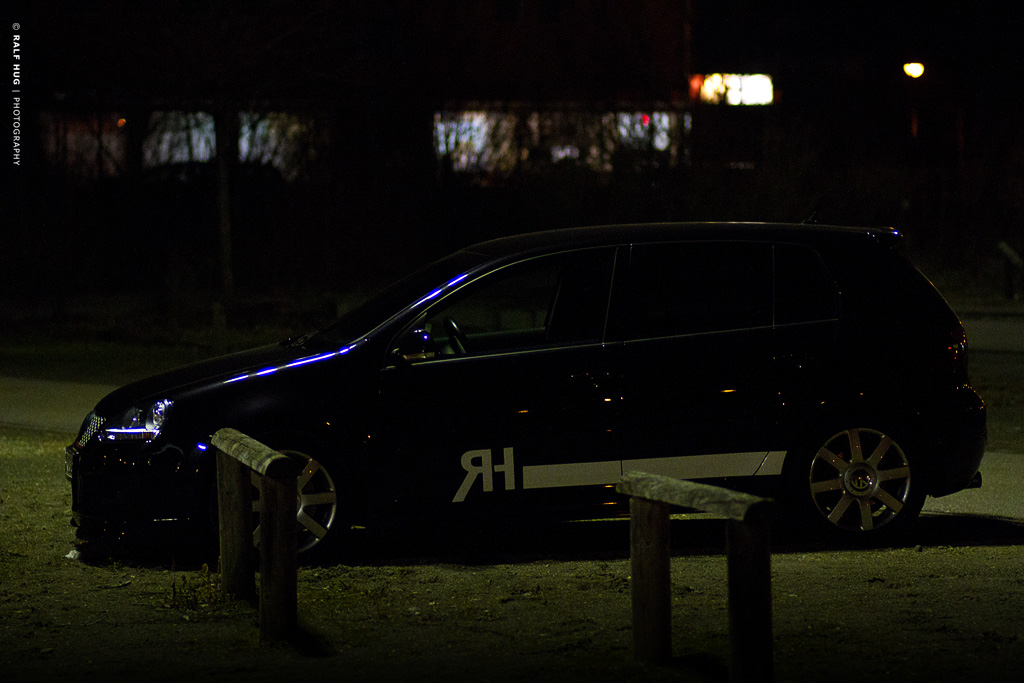car: (58, 180, 997, 579)
